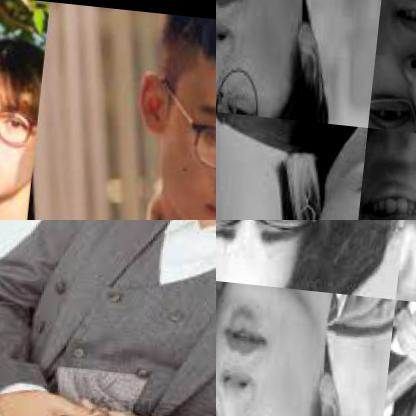Glasses: (142, 61, 215, 197), (0, 74, 40, 157)
glasses: (216, 40, 280, 118), (216, 220, 330, 255), (367, 82, 415, 144), (282, 192, 360, 219)
hands: (388, 299, 415, 377)
